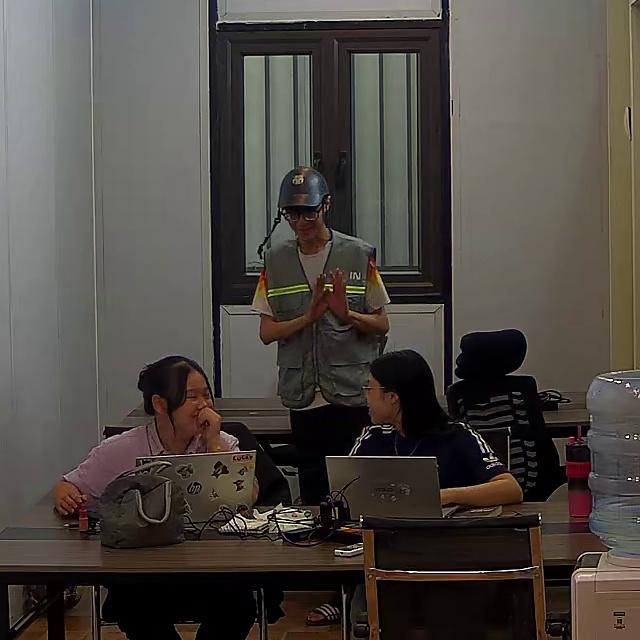helmet: (276, 166, 332, 211)
no_helmet: (367, 350, 449, 435), (138, 355, 210, 419)
none: (60, 420, 238, 515), (346, 417, 510, 496)
vest: (255, 229, 387, 407)
